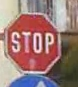stop: (5, 10, 60, 72)
